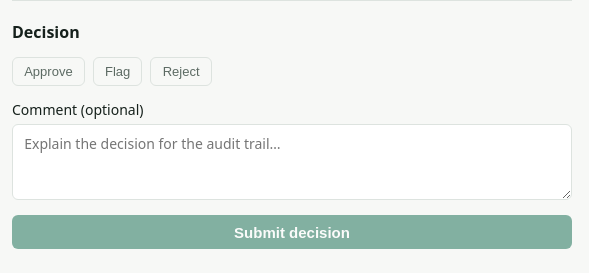
Scenario: submit is disabled until a decision is chosen
Check: the button "Submit decision" is disabled, box 12,215 -> 572,249
Click the radio button labelled "Approve" at (48, 72), box 12,57 -> 85,86
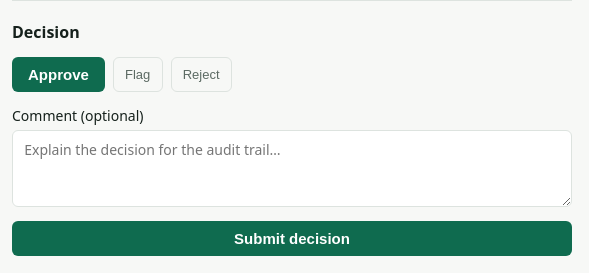
Check: the button "Submit decision" is enabled, box 12,221 -> 572,256
